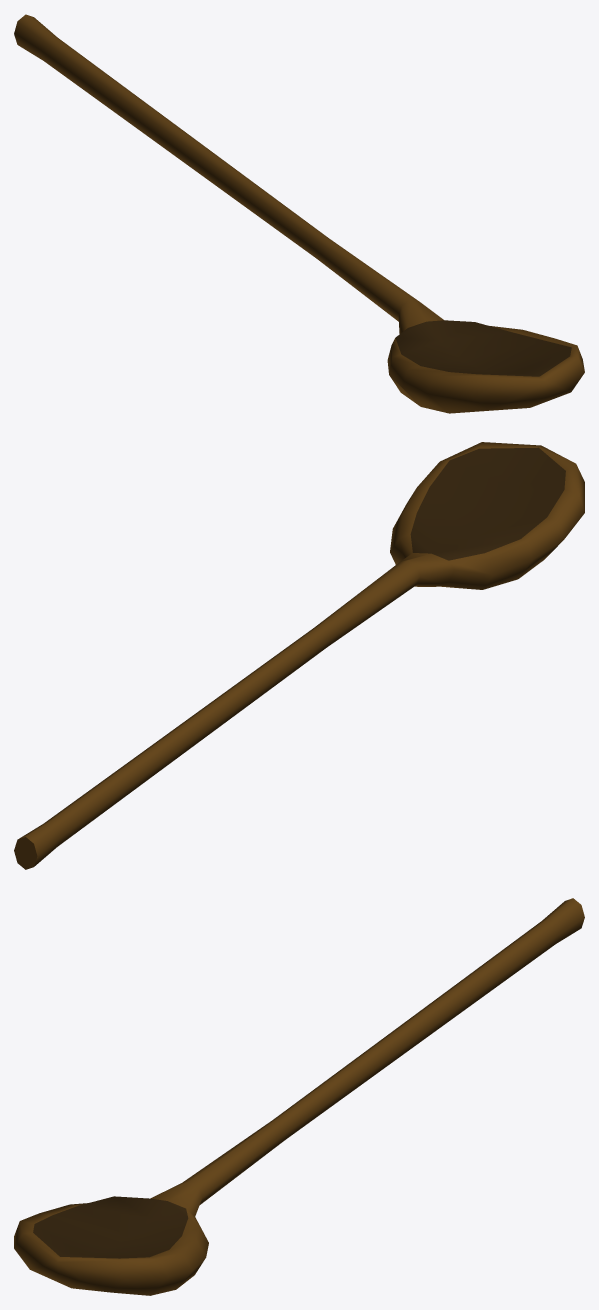
File: VillagerSpoon.fbx
The picture shows the model from 3 angles, top to bottom: view 1: azimuth 30°, elevation 25°; view 2: azimuth 150°, elevation 25°; view 3: azimuth 330°, elevation 25°; orthographic projection.
Parts seen in each view (by area): view 1: VillagerSpoon; view 2: VillagerSpoon; view 3: VillagerSpoon.
Boxes of the visible parts, x1,y1,x2,y2 form: VillagerSpoon: (14, 14, 584, 413); VillagerSpoon: (14, 442, 584, 869); VillagerSpoon: (14, 898, 584, 1295).
Bounding box in the file's own units: 13.75 × 5.91 × 77.71.
